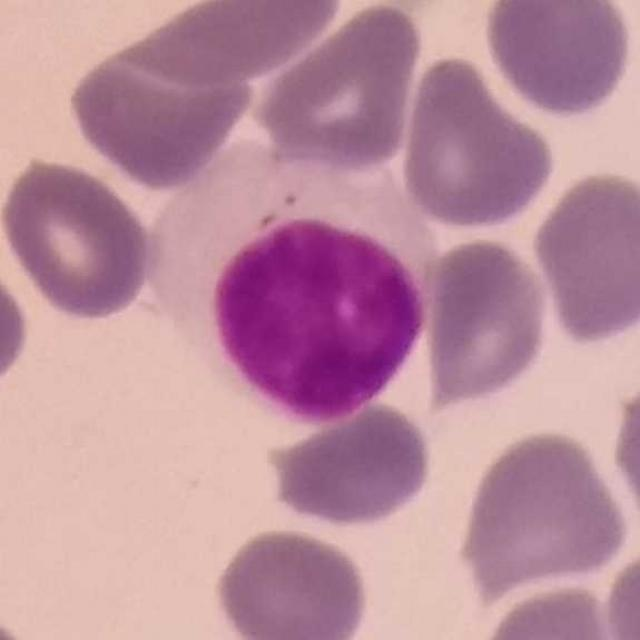Lymphocyte: (146, 138, 433, 427)
RBC: (62, 21, 258, 192), (453, 423, 632, 605), (250, 1, 426, 176), (395, 50, 560, 234), (0, 152, 160, 323), (419, 232, 553, 410), (262, 396, 438, 531), (528, 166, 640, 348), (115, 1, 344, 86), (209, 523, 374, 640), (479, 0, 636, 121), (474, 580, 635, 640), (606, 355, 640, 552), (0, 251, 33, 405), (599, 538, 640, 640)
